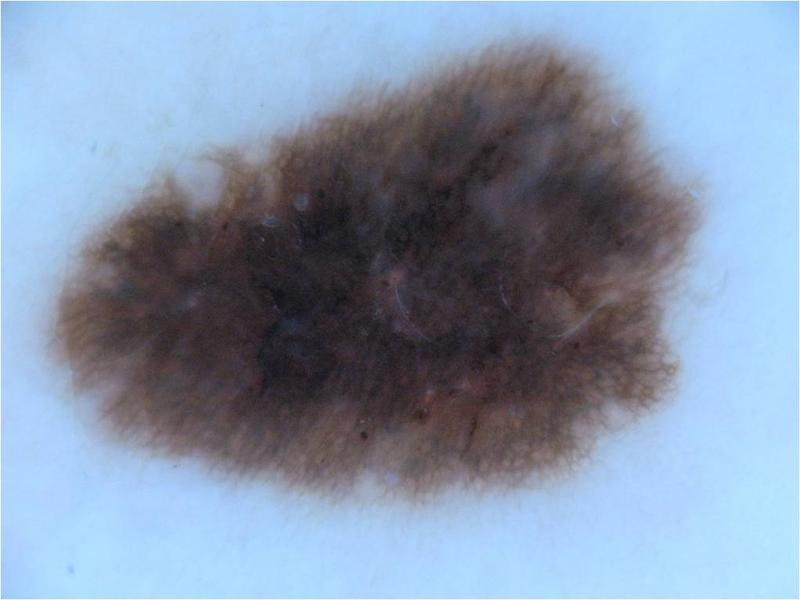Bengin: (94, 57, 683, 468)
